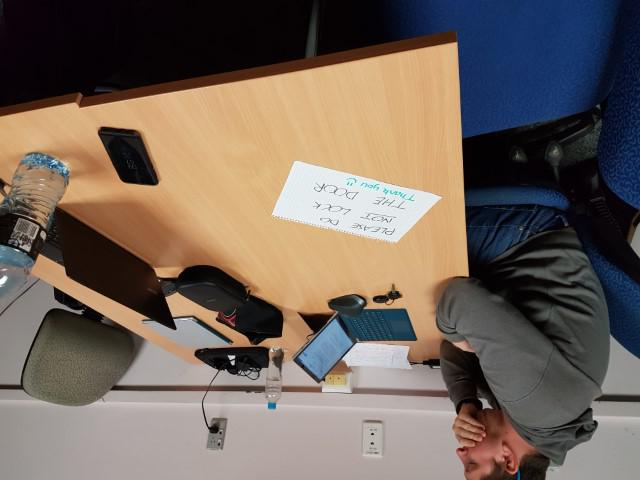key: (387, 281, 402, 301)
